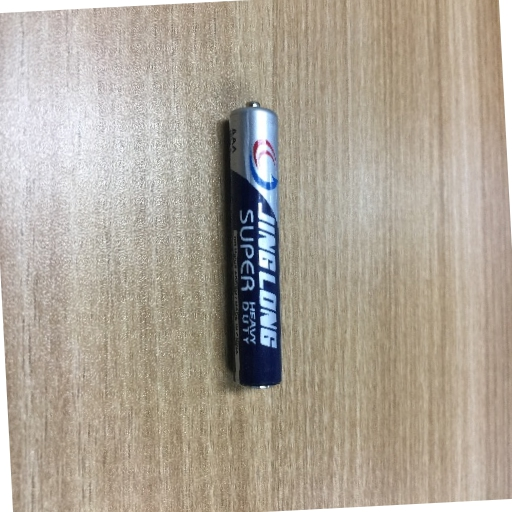Battery_0: (216, 91, 308, 413)
